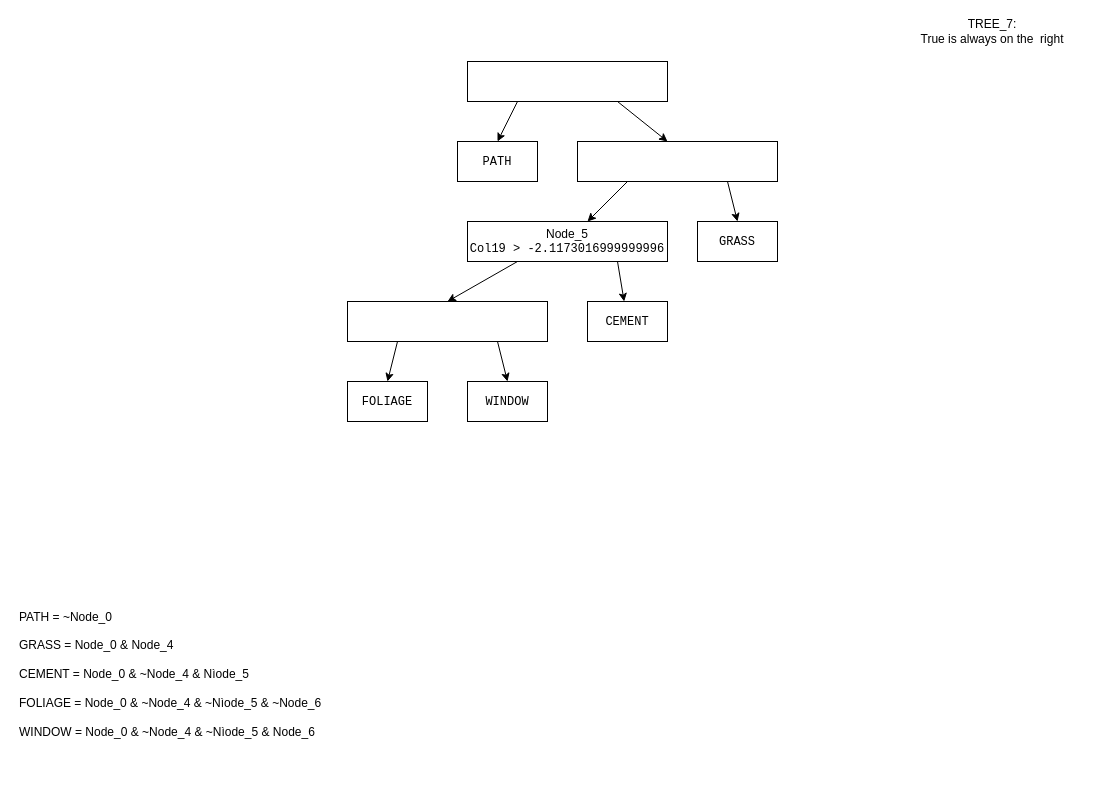
The diagram is 1114 pixels wide and 799 high, and some of its shapes have lost their labels. The shapes that lost their labels are listed below. From the top down, each one's centre as x and y in pixels, then its label:
At (567,81): "NODE_0 EXBLUE_MEAN > -15.0".
At (677,161): "Node_4 Col19 > -0.022954550000000018".
At (447,321): "Node_6 Col19 > -2.2591537".
